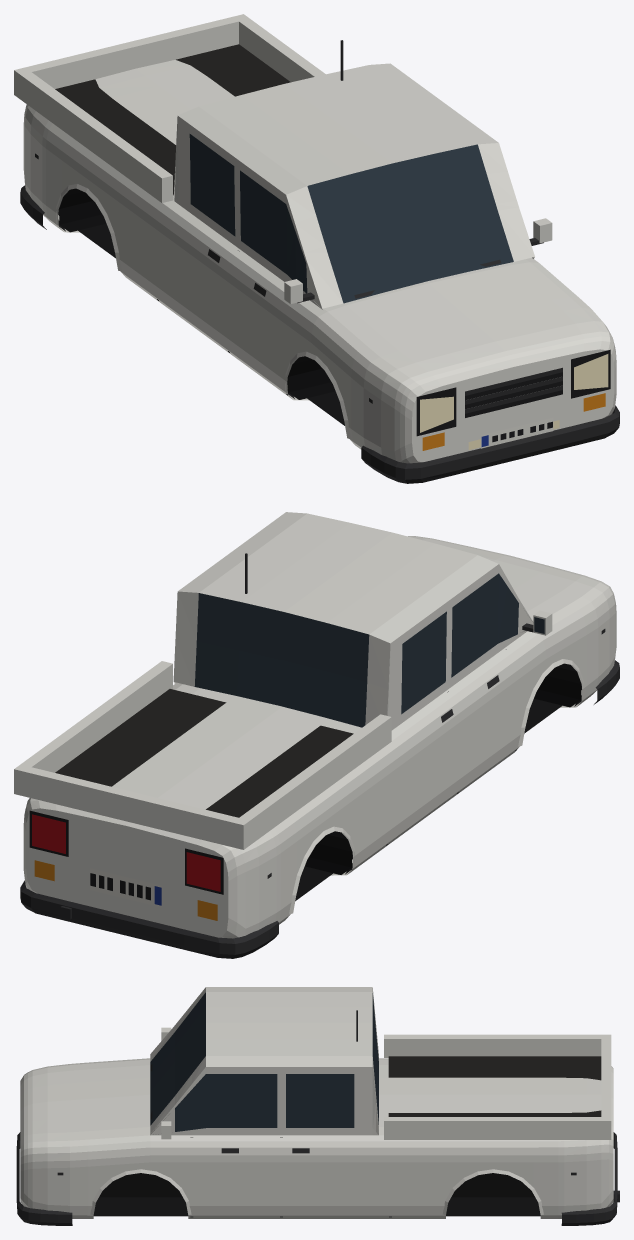
File: tordo-recua.glb
3 views of the same model, one above another, from view 1: azimuth 30°, elevation 25°; view 2: azimuth 150°, elevation 25°; view 3: azimuth 270°, elevation 25° (orthographic). The views are drawn at different scales.
Visible parts, largest first — view 1: LOD0, door_RR, door_FR; view 2: LOD0, door_RR, door_FR; view 3: LOD0, door_RL, door_FL.
Boxes of the visible parts, left/top/right/bottom form: LOD0: left=14, top=14, right=619, bottom=483; door_RR: left=154, top=116, right=235, bottom=348; door_FR: left=226, top=161, right=296, bottom=391; LOD0: left=14, top=512, right=619, bottom=958; door_RR: left=383, top=602, right=459, bottom=842; door_FR: left=451, top=564, right=519, bottom=789; LOD0: left=16, top=987, right=619, bottom=1225; door_RL: left=283, top=1067, right=391, bottom=1215; door_FL: left=192, top=1067, right=279, bottom=1215.
Size of what is drawn, in the model's own units: 1.88 by 1.7 by 4.9.
